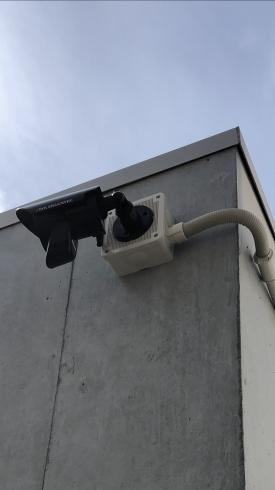tutu: (13, 174, 119, 270)
